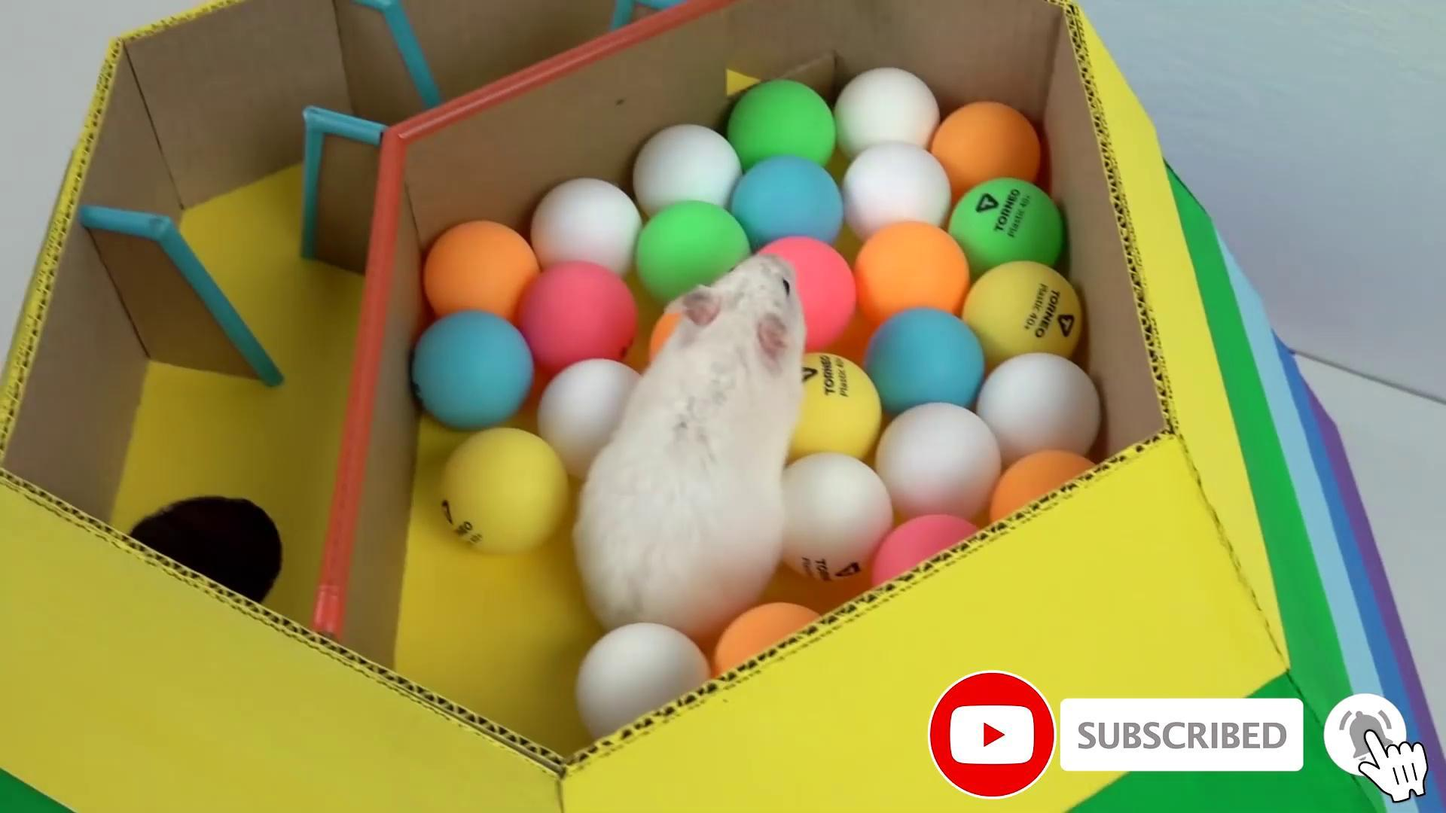rat: (575, 254, 804, 633)
